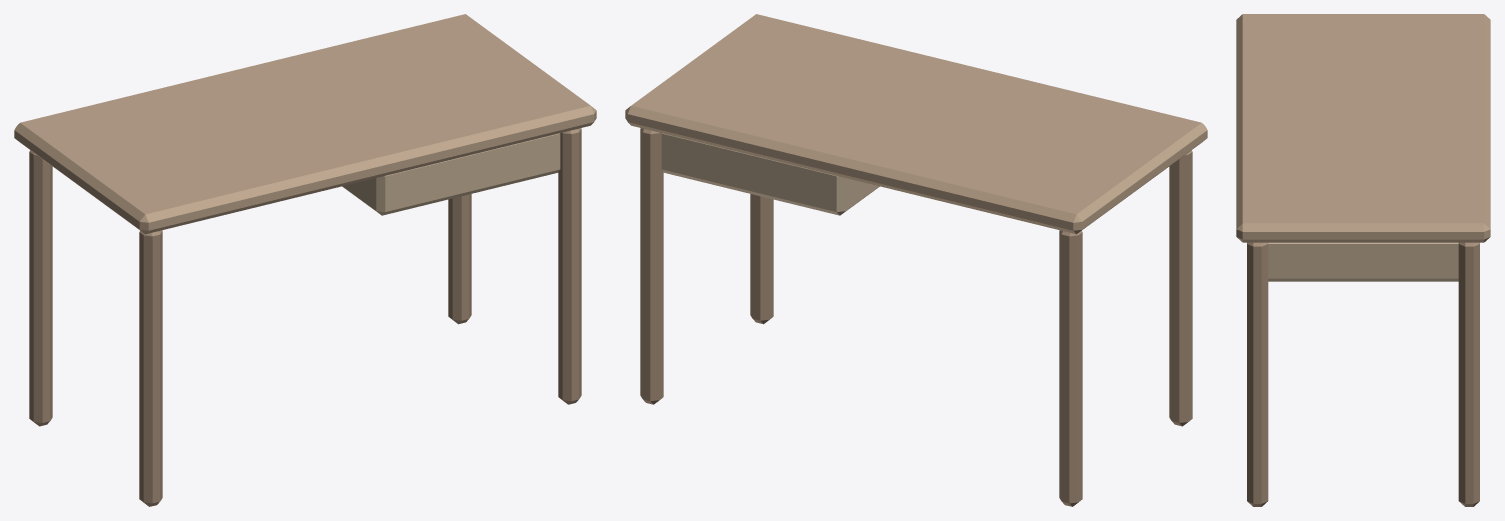
File: bed_moveis_escrivaninha.glb
3 renders of one model, left to right at view 1: azimuth 30°, elevation 25°; view 2: azimuth 150°, elevation 25°; view 3: azimuth 270°, elevation 25°, orthographic. The views are drawn at different scales.
Parts seen in each view (by area): view 1: BED_Moveis_Escrivaninha_v01; view 2: BED_Moveis_Escrivaninha_v01; view 3: BED_Moveis_Escrivaninha_v01.
Boxes of the visible parts, x1,y1,x2,y2 form: BED_Moveis_Escrivaninha_v01: (14,14,596,506); BED_Moveis_Escrivaninha_v01: (625,14,1207,506); BED_Moveis_Escrivaninha_v01: (1236,14,1490,506).
Size of the model in its own units: 1.2 by 0.75 by 0.6.
